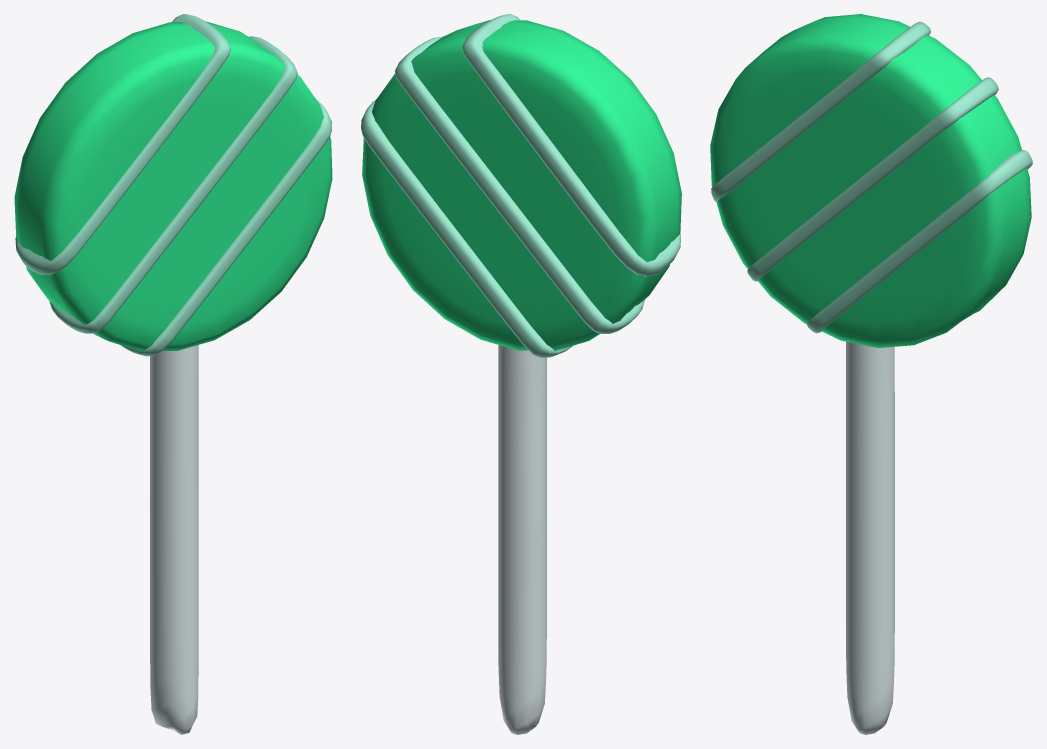
File: Lollipop_B_06.fbx
3 renders of one model, left to right at view 1: azimuth 30°, elevation 25°; view 2: azimuth 150°, elevation 25°; view 3: azimuth 330°, elevation 25°, orthographic.
Visible parts, largest first — view 1: Lollipop_B_06_LOD0; view 2: Lollipop_B_06_LOD0; view 3: Lollipop_B_06_LOD0.
Part boxes in pixels (x1=…): Lollipop_B_06_LOD0: x1=14, y1=14, x2=332, y2=734; Lollipop_B_06_LOD0: x1=361, y1=14, x2=681, y2=734; Lollipop_B_06_LOD0: x1=710, y1=14, x2=1032, y2=734.
Size of what is drawn, in the model's own units: 507 by 1156 by 142.
